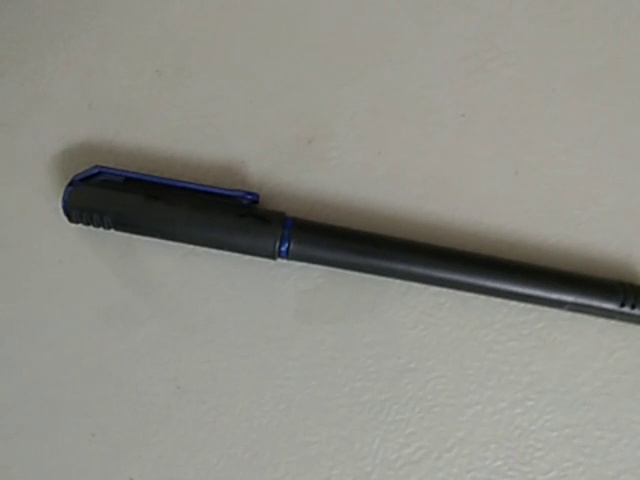Pen: (43, 123, 640, 371)
